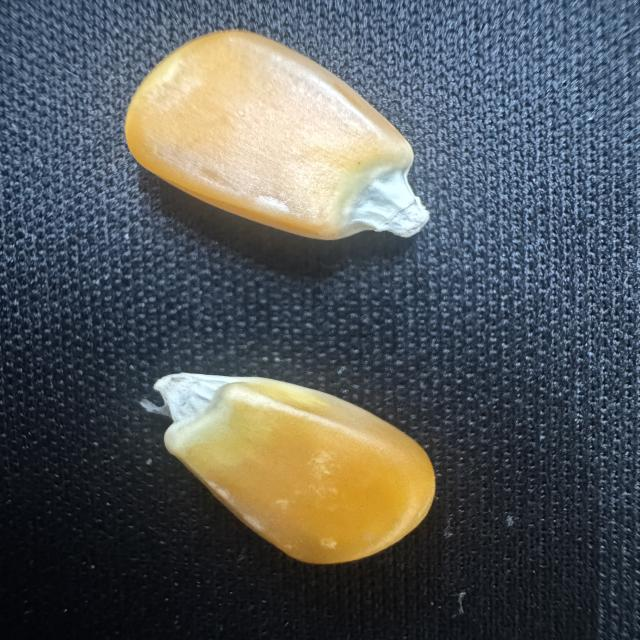Good-Seed: (115, 23, 441, 244), (140, 348, 443, 570)
